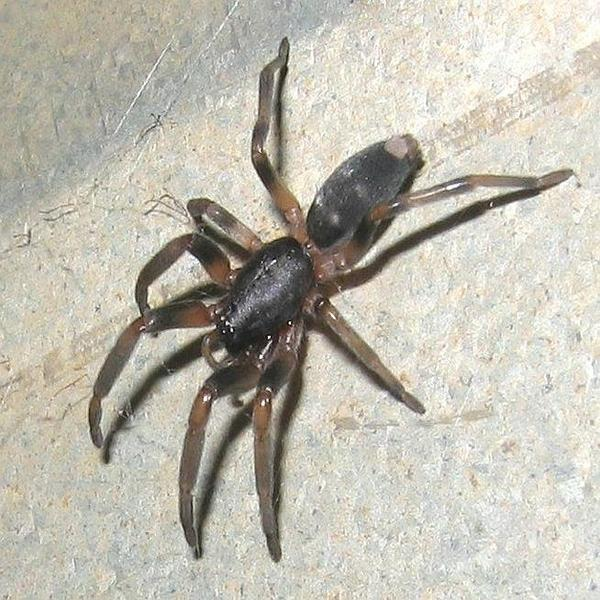White-Tailed_Spider: (89, 37, 574, 559)
